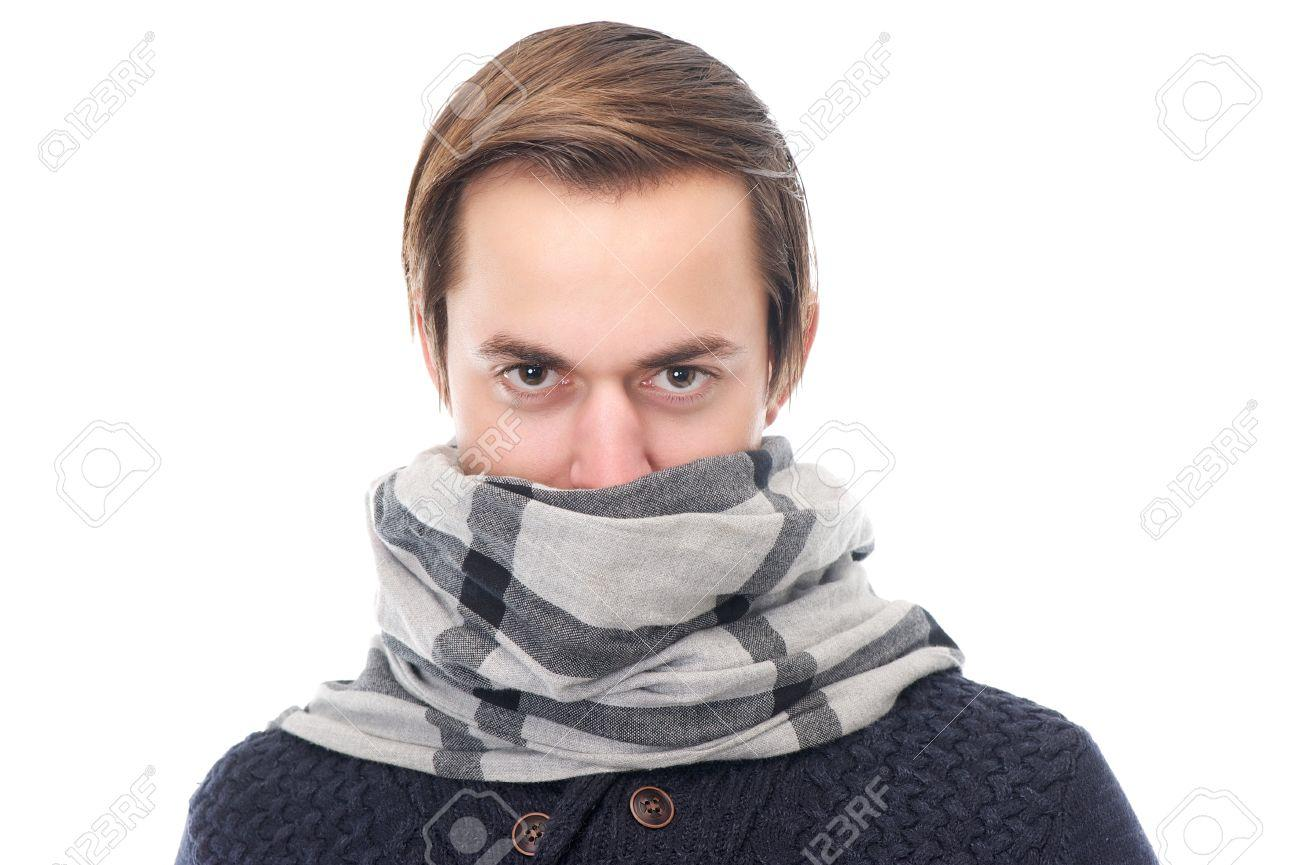scarf-kerchief: (348, 405, 958, 783)
